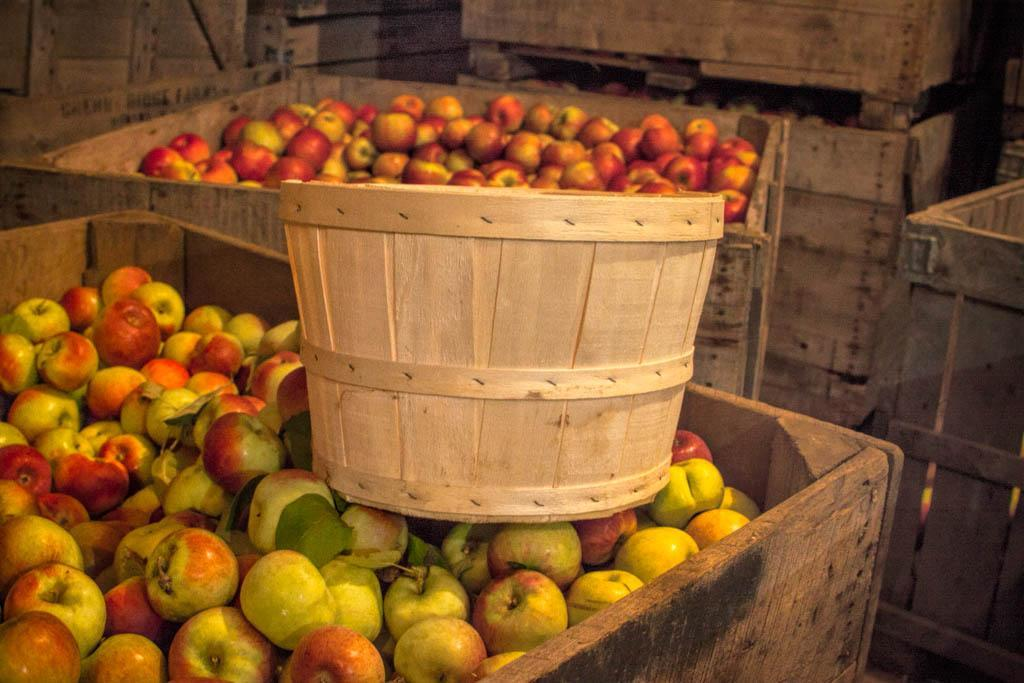apple: (4, 563, 104, 661), (245, 467, 345, 556), (240, 551, 333, 646), (145, 528, 238, 619), (169, 606, 278, 681), (471, 568, 567, 651), (202, 412, 285, 495), (393, 618, 488, 683), (291, 623, 386, 683), (1, 611, 80, 683)
